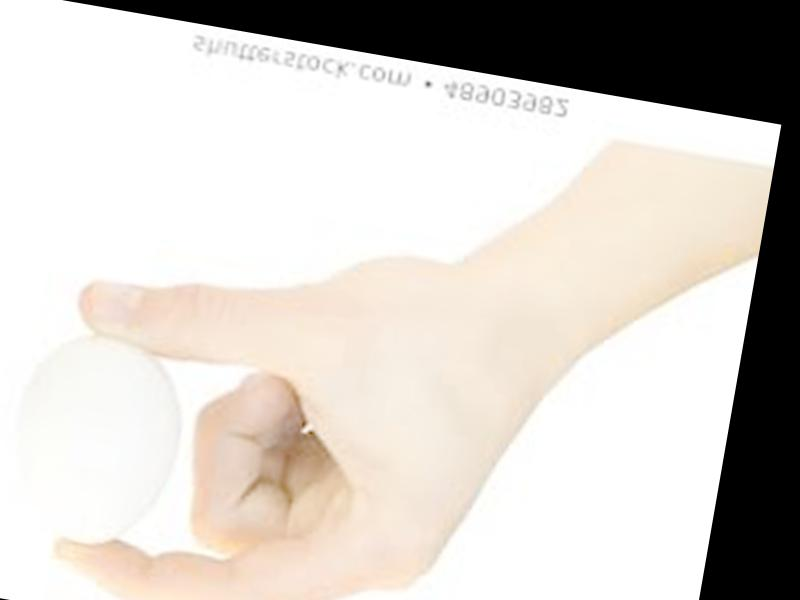Eggs: (3, 322, 196, 555)
